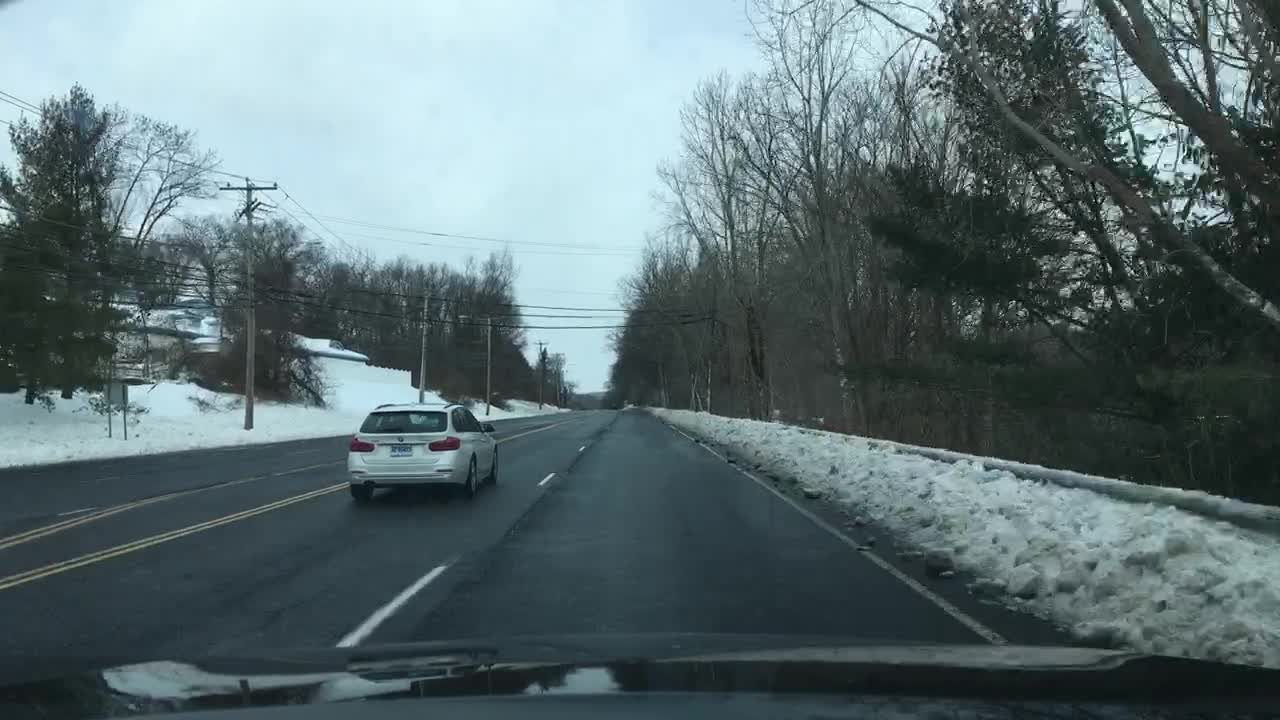car: (346, 399, 499, 502)
